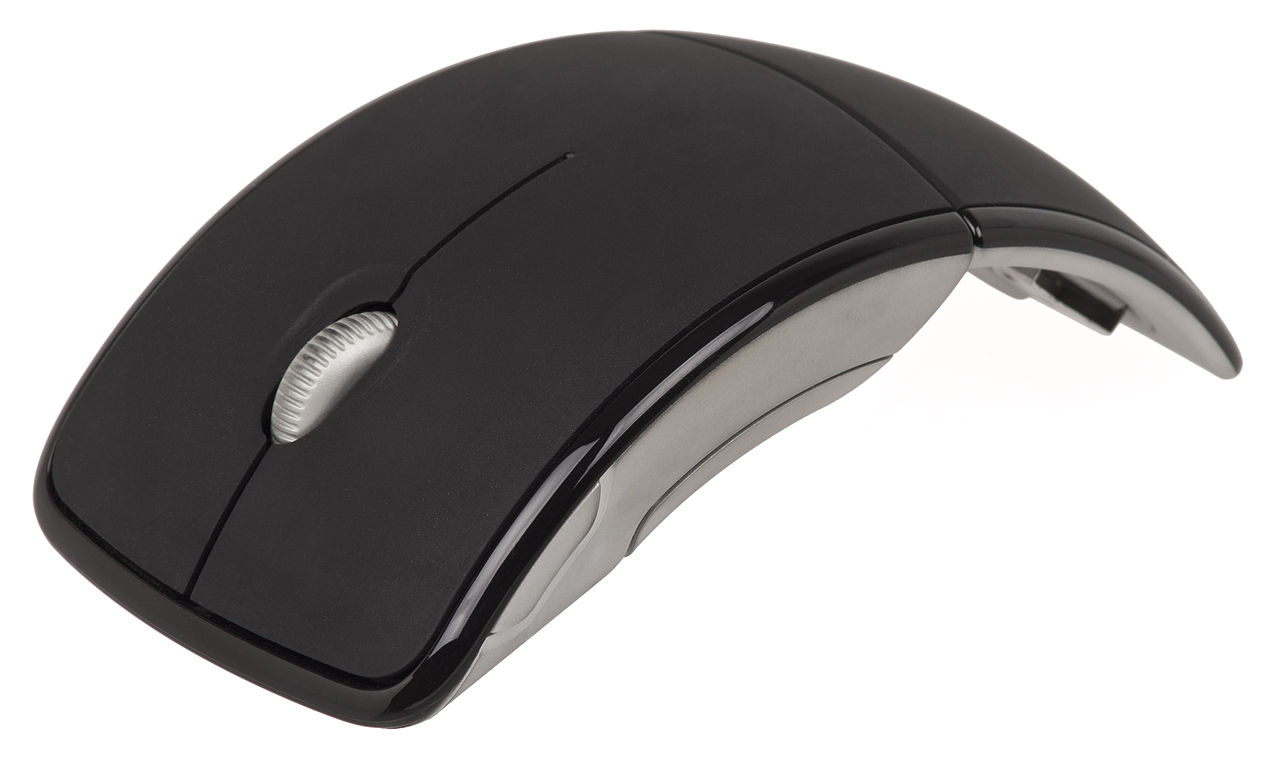mouse: (40, 72, 1244, 691)
